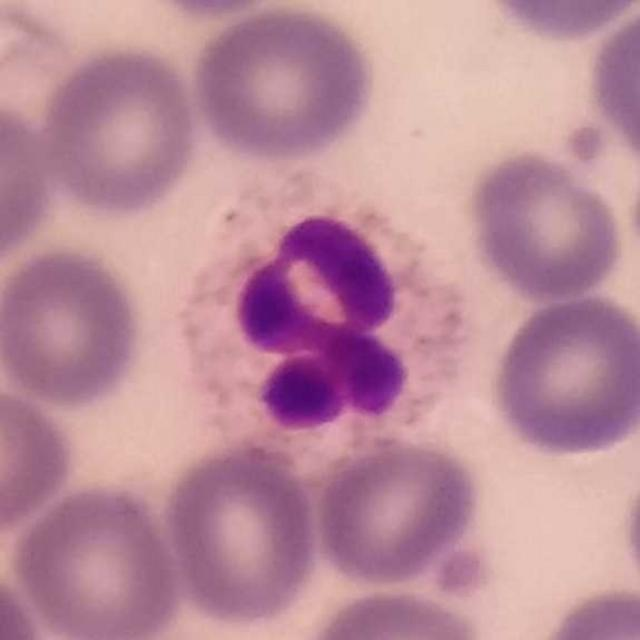Neutrophil: (173, 173, 468, 464)
Platelets: (421, 545, 502, 606), (556, 111, 612, 172)
RBC: (186, 1, 381, 166), (157, 438, 322, 629), (33, 40, 205, 220), (308, 434, 491, 592), (8, 479, 186, 640), (461, 146, 629, 304), (484, 290, 640, 460), (0, 242, 148, 410), (0, 379, 79, 538), (294, 583, 493, 640), (0, 95, 57, 272), (583, 1, 640, 165), (474, 0, 638, 43), (530, 583, 640, 640), (0, 565, 48, 640), (619, 449, 640, 616), (130, 0, 297, 20)
